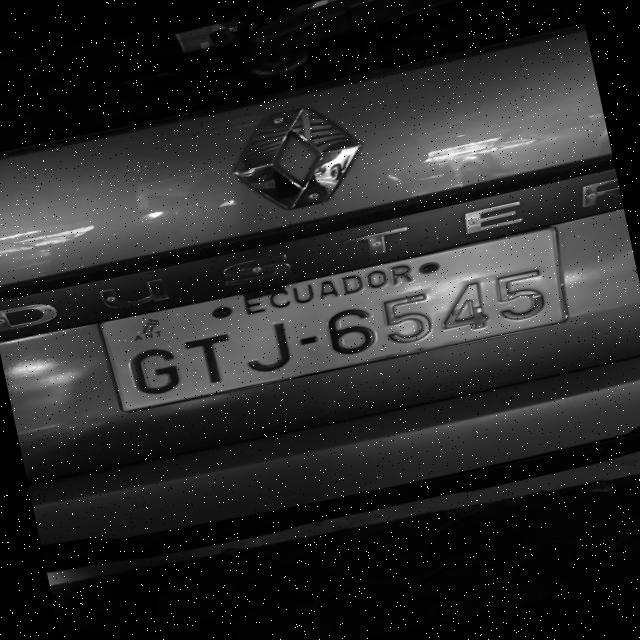Placa: (102, 229, 565, 410)
